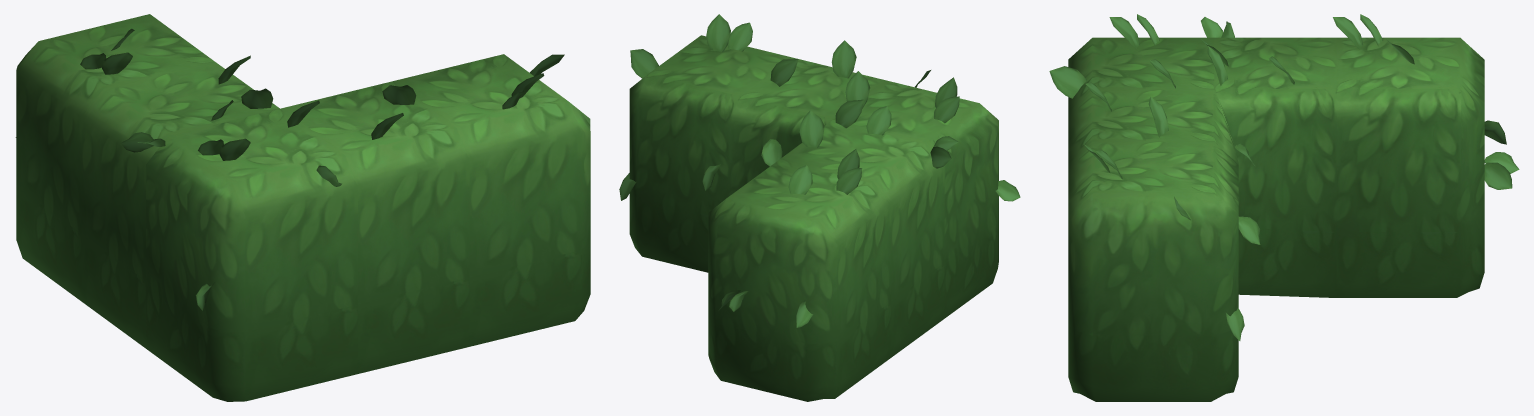
The model's file is bush_5x.fbx.
3 views of the same model, side by side, from view 1: azimuth 30°, elevation 25°; view 2: azimuth 150°, elevation 25°; view 3: azimuth 270°, elevation 25° (orthographic). The views are drawn at different scales.
Parts seen in each view (by area): view 1: Bush_5x; view 2: Bush_5x; view 3: Bush_5x.
Part boxes in pixels (x1=…): Bush_5x: x1=15, y1=14, x2=590, y2=401; Bush_5x: x1=619, y1=14, x2=1020, y2=401; Bush_5x: x1=1049, y1=14, x2=1519, y2=401.
Size of what is drawn, in the model's own units: 85.11 by 47.68 by 87.75.
